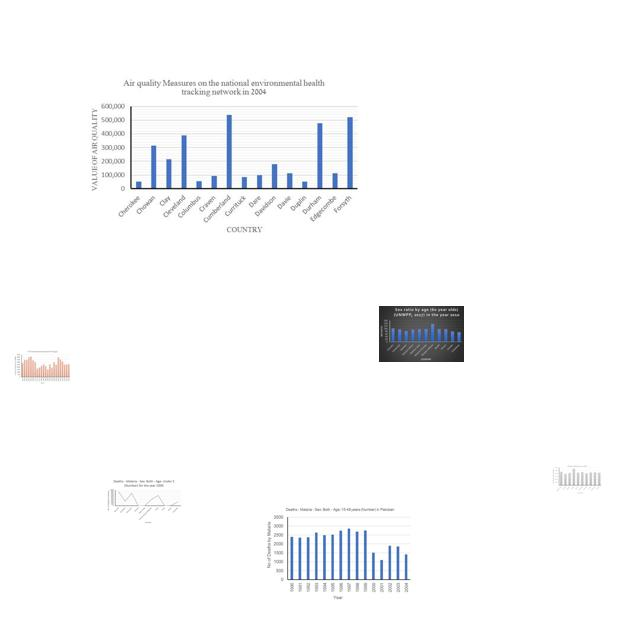Graph: (85, 77, 362, 240), (264, 505, 412, 602), (379, 306, 464, 362), (107, 478, 182, 524), (14, 350, 71, 384), (552, 465, 602, 494)
